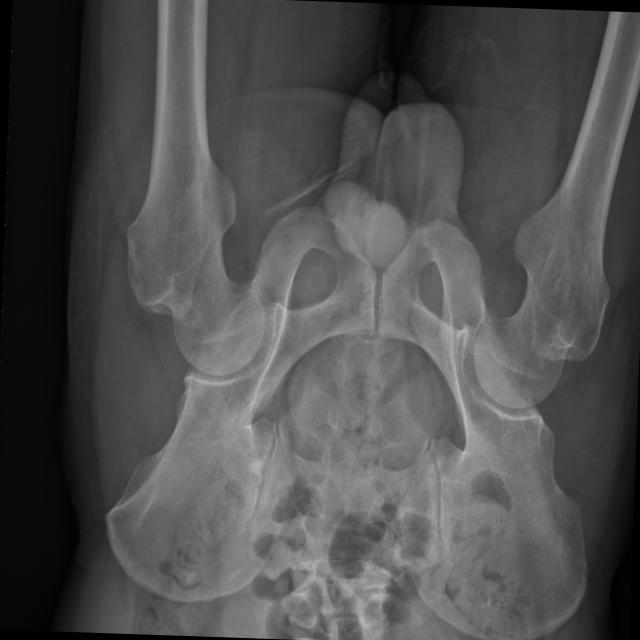normal-left: (125, 0, 262, 374)
normal-right: (473, 10, 640, 407)
